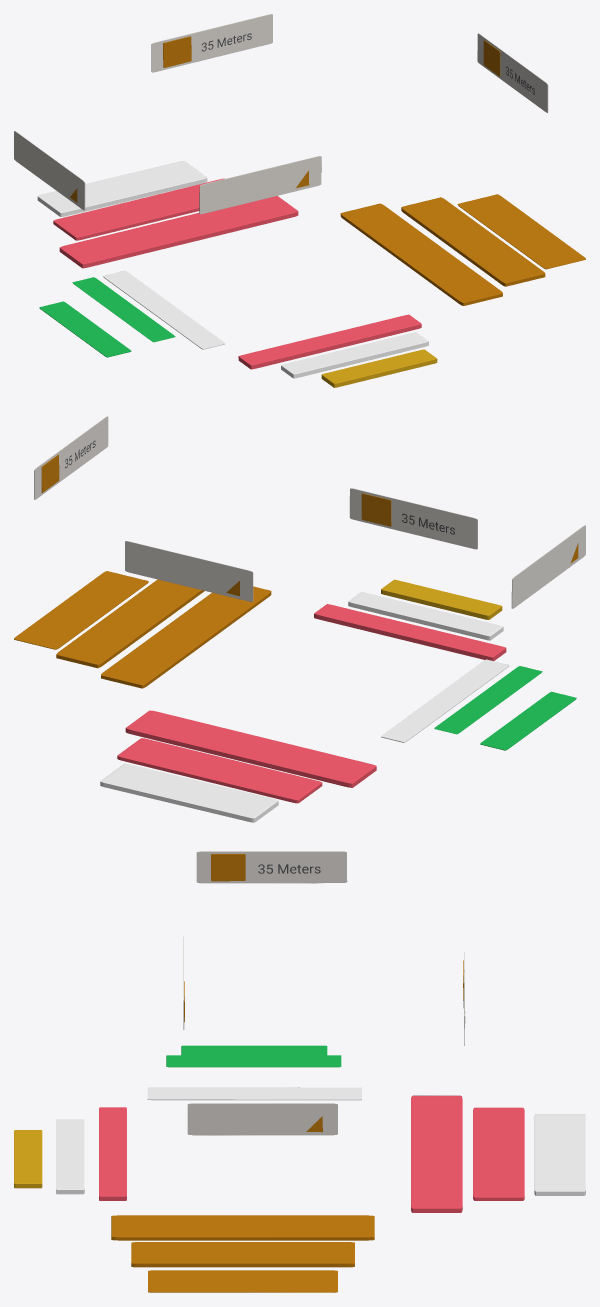
The model's file is jump_domi13.gltf.
The picture shows the model from 3 angles, top to bottom: view 1: azimuth 30°, elevation 25°; view 2: azimuth 150°, elevation 25°; view 3: azimuth 270°, elevation 25°; orthographic projection. The views are drawn at different scales.
Parts seen in each view (by area): view 1: Cube right (×7), Cube top (×2), Cube bottom (×3), Cube left (×3), Cube top center, Cube right center; view 2: Cube right (×7), Cube top (×2), Cube bottom (×3), Cube top center, Cube left (×3), Cube right center; view 3: Cube right (×5), Cube top (×2), Cube left (×3), Cube right center, Cube bottom (×3), Cube top center.
Boxes of the visible parts, x1,y1,x2,y2 form: Cube right (×7): (14, 14, 585, 286); Cube top (×2): (37, 161, 224, 240); Cube bottom (×3): (238, 314, 437, 387); Cube left (×3): (39, 270, 224, 357); Cube top center: (59, 196, 298, 268); Cube right center: (340, 203, 502, 305); Cube right (×7): (14, 416, 585, 668); Cube top (×2): (100, 738, 322, 822); Cube bottom (×3): (314, 579, 506, 660); Cube top center: (125, 710, 376, 787); Cube left (×3): (381, 659, 576, 750); Cube right center: (101, 586, 271, 688); Cube right (×5): (131, 851, 354, 1292); Cube top (×2): (473, 1107, 585, 1200); Cube left (×3): (147, 1045, 361, 1100); Cube right center: (111, 1215, 374, 1240); Cube bottom (×3): (14, 1107, 126, 1200); Cube top center: (411, 1095, 462, 1212).
Size of the model in its own units: 13.81 by 5.08 by 13.31.
